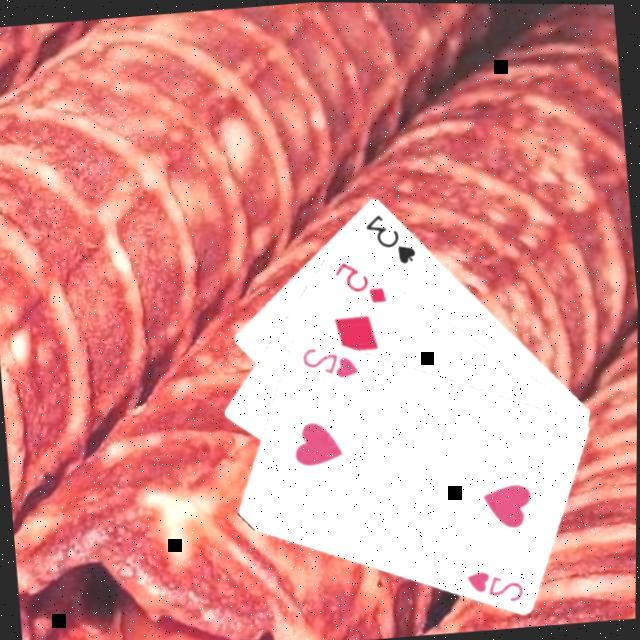2H: (464, 562, 530, 606), (300, 338, 364, 382)
3S: (363, 205, 422, 268)
5D: (332, 252, 392, 307)
